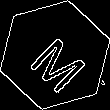M_NE: (21, 21, 89, 89)
